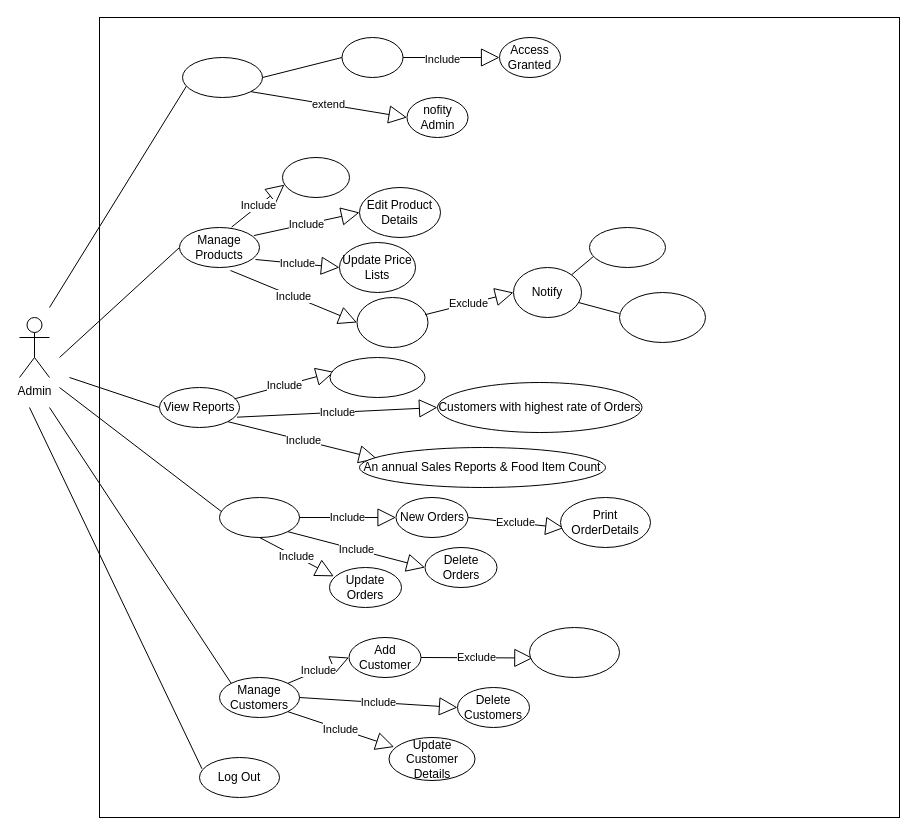
This 917x835 diagram has some shape labels left out. The shapes that lost their labels are listed below. From the top down, each one's centre as x and y in pixels, then its label:
At [222,77]: "Login".
At [372,57]: "Sucessful".
At [316,177]: "Add Products".
At [627,247]: "Expired Products".
At [392,322]: "Existing Product List".
At [662,317]: "Unavailable Products".
At [377,377]: "Monthly Sales Reports".
At [259,517]: "Manage Orders".
At [574,652]: "Successfully Added".
